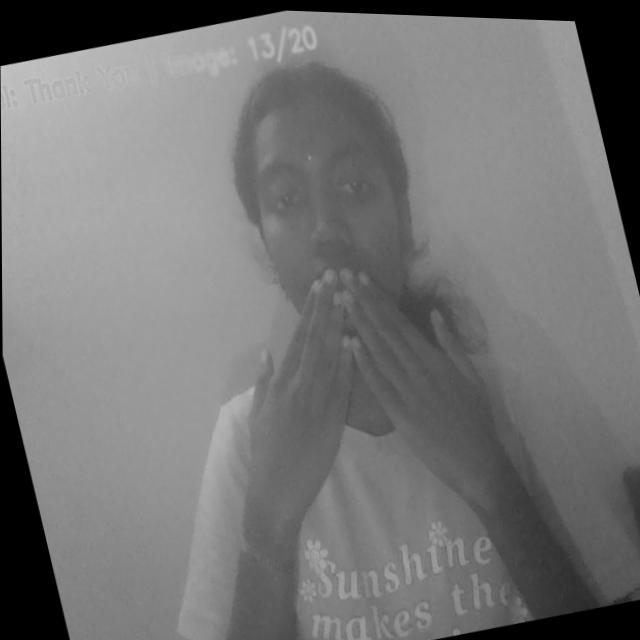Thank You: (187, 221, 535, 552)
